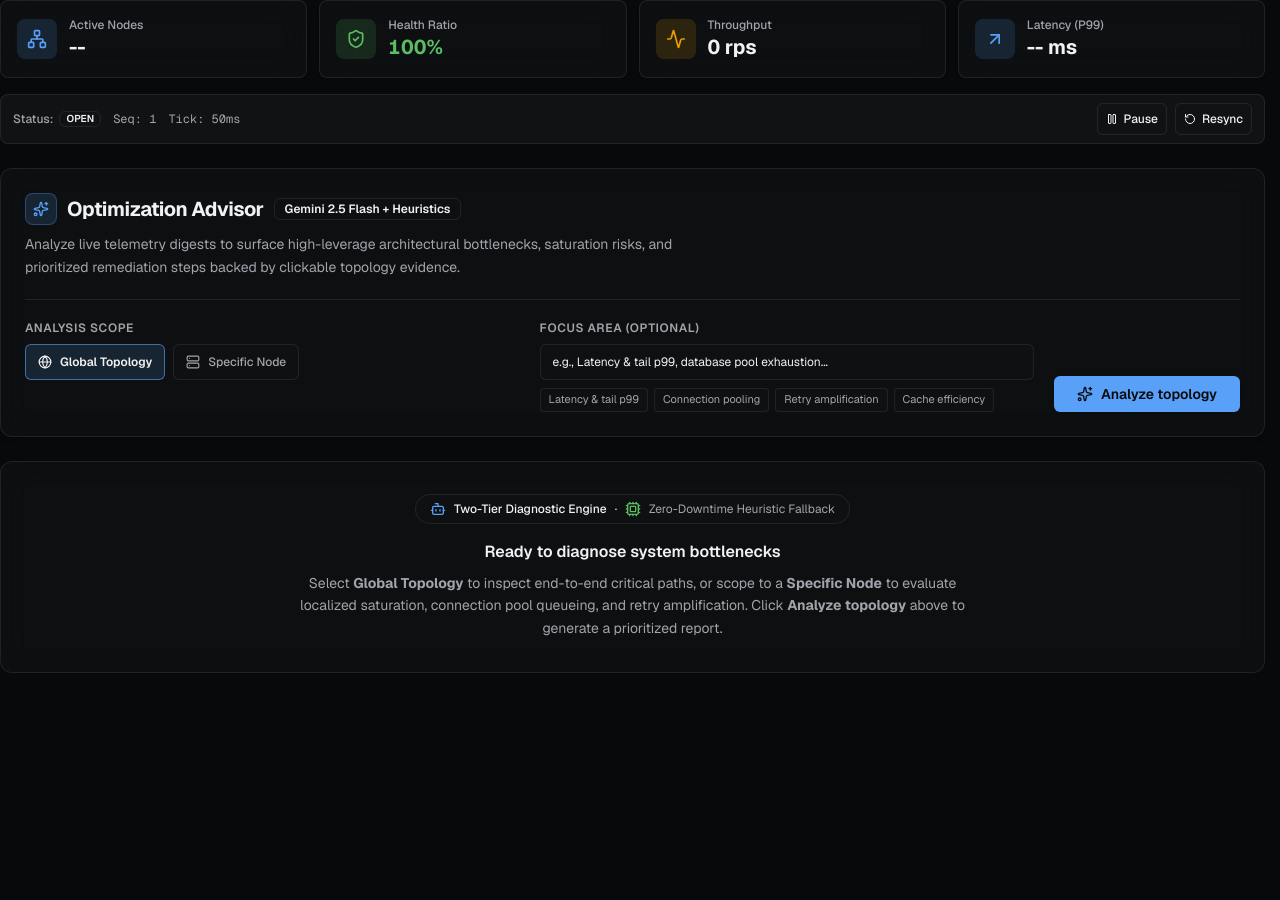
Test: Phase 15: Insights UI (Optimization Advisor) › /insights Route & Pre-Scoping › surfaces RFC 9457 429 rate-limit errors via sonner toast and accessible alert banner
Click the button with test id "analyze-topology-btn" at {"x": 1147, "y": 394}, box [1054,376,1240,412]
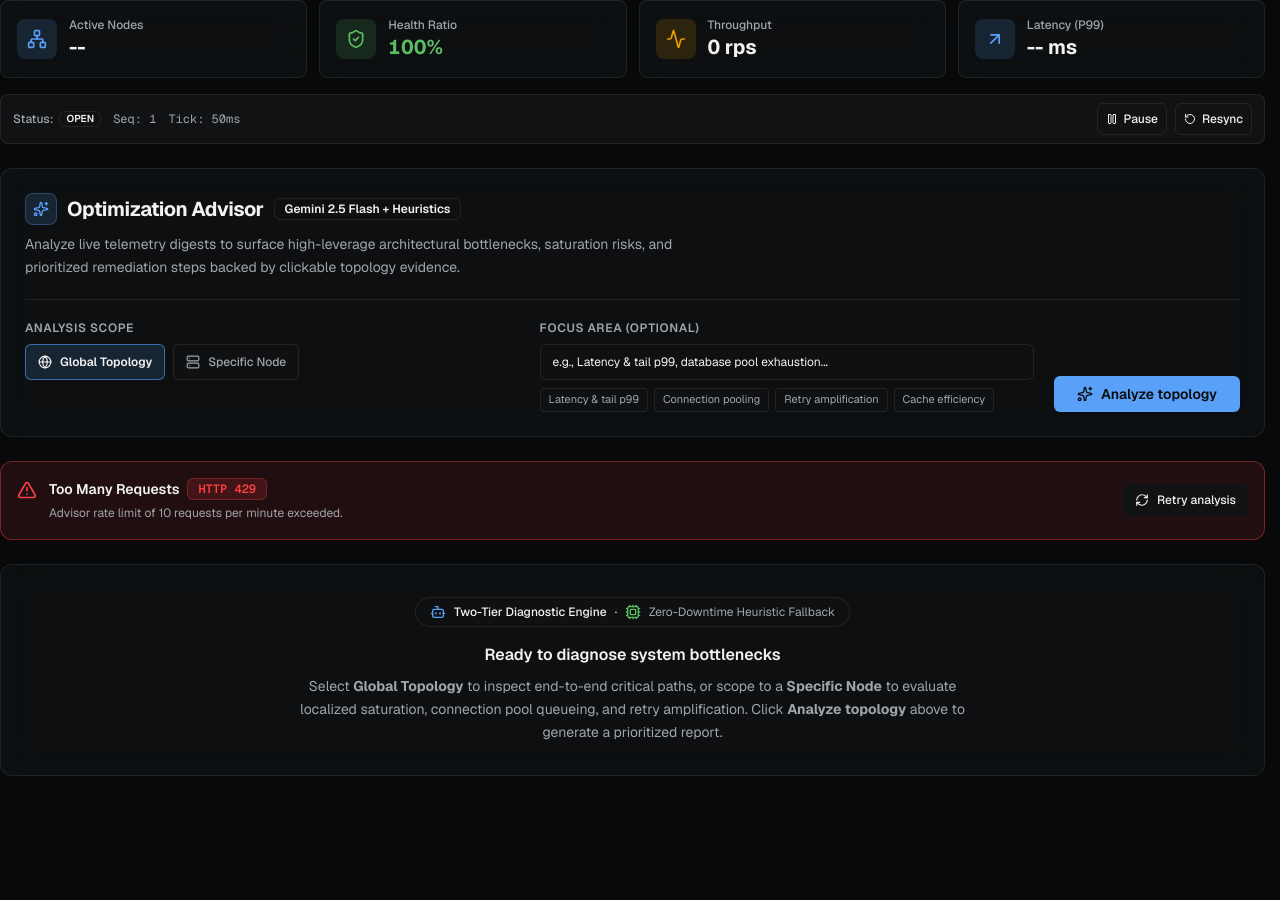
Now the message with test id "insights-error-alert" shows "Too Many Requests", box [49,480,179,498]
Now the message with test id "insights-error-alert" shows "HTTP 429", box [0,460,1265,540]
Now the message with test id "insights-error-alert" shows "Advisor rate limit of 10 requests per minute exceeded.", box [49,504,343,520]
